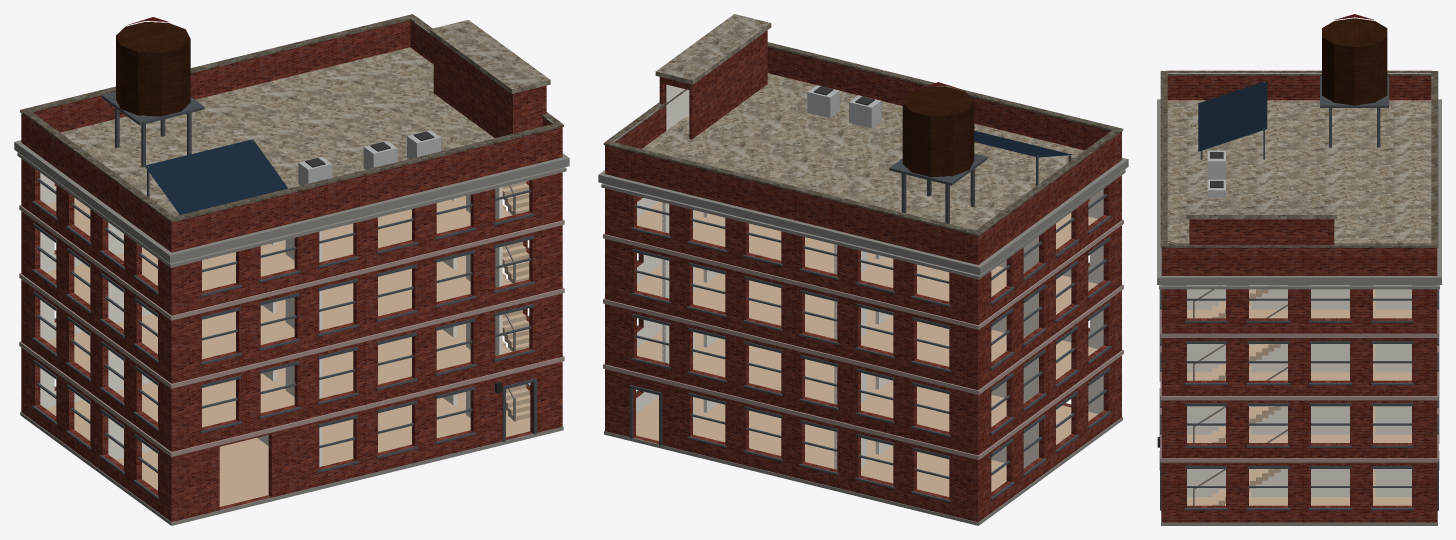
The model's file is mh-mill-lofts.towns-v2.lod0.glb.
3 views of the same model, side by side, from view 1: azimuth 30°, elevation 25°; view 2: azimuth 150°, elevation 25°; view 3: azimuth 270°, elevation 25° (orthographic). The views are drawn at different scales.
Parts seen in each view (by area): view 1: mh-mill-lofts; view 2: mh-mill-lofts; view 3: mh-mill-lofts.
Part boxes in pixels (x1,y1,x2,y2): mh-mill-lofts: (14,14,569,525); mh-mill-lofts: (598,14,1128,525); mh-mill-lofts: (1157,14,1441,525).
Bounding box in the file's own units: 18.4 × 18.07 × 12.4.
Materials: 6 (3 with a texture image).
